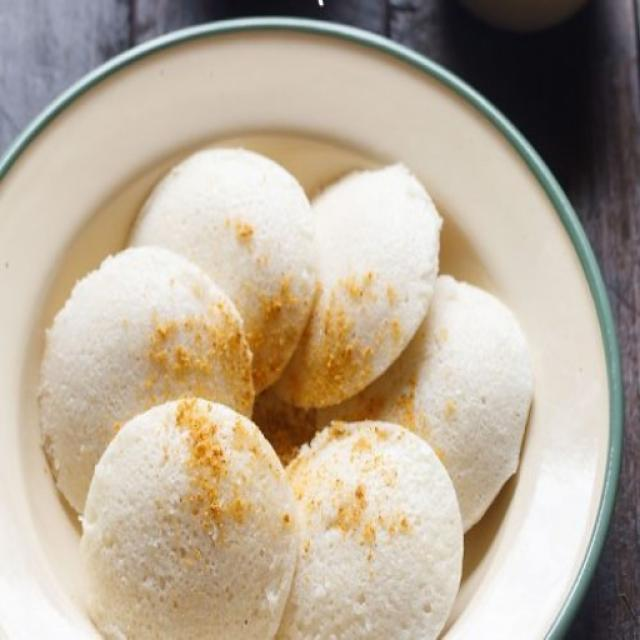IDLI: (40, 149, 462, 639), (340, 275, 532, 531)
